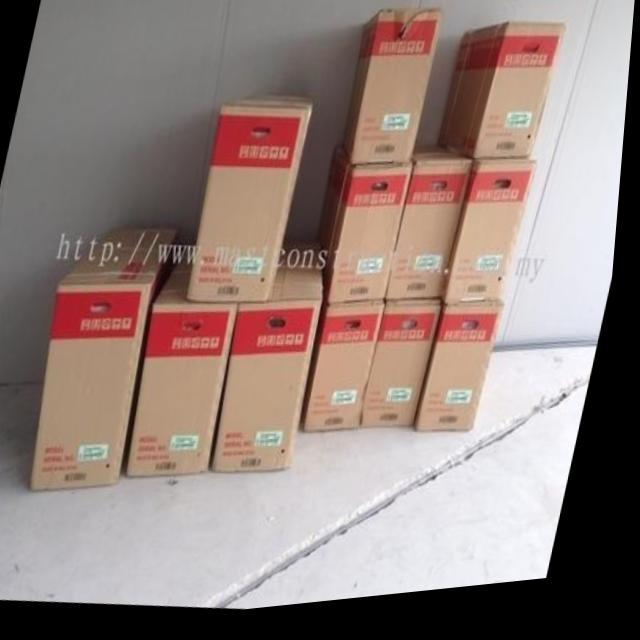box: (37, 229, 183, 489), (193, 95, 316, 308), (222, 250, 327, 476), (137, 265, 245, 480), (441, 35, 565, 169), (323, 152, 418, 313), (347, 17, 442, 174), (392, 153, 477, 310), (448, 170, 541, 311), (422, 309, 509, 440), (308, 310, 394, 441), (369, 309, 451, 439)
